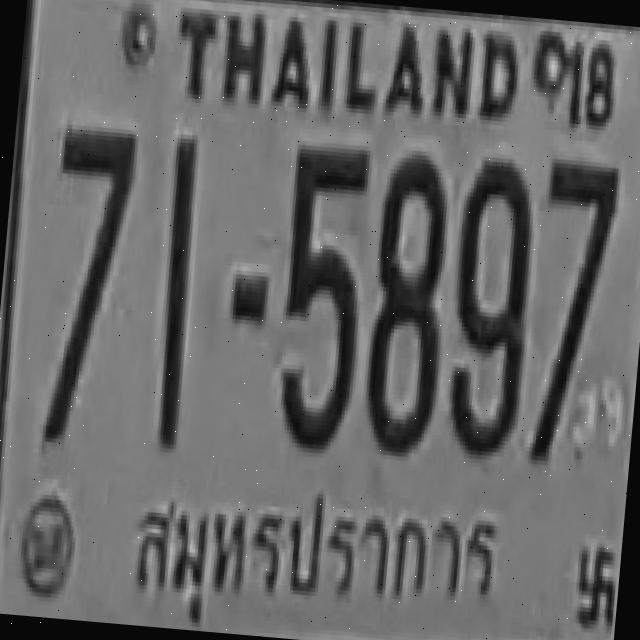1: (148, 133, 202, 424)
5: (268, 142, 369, 449), (274, 140, 368, 394)
7: (36, 121, 134, 436), (522, 158, 618, 464), (44, 121, 135, 339)
8: (357, 150, 452, 452)
9: (440, 154, 538, 453)
SamutPrakan: (108, 464, 513, 640)
